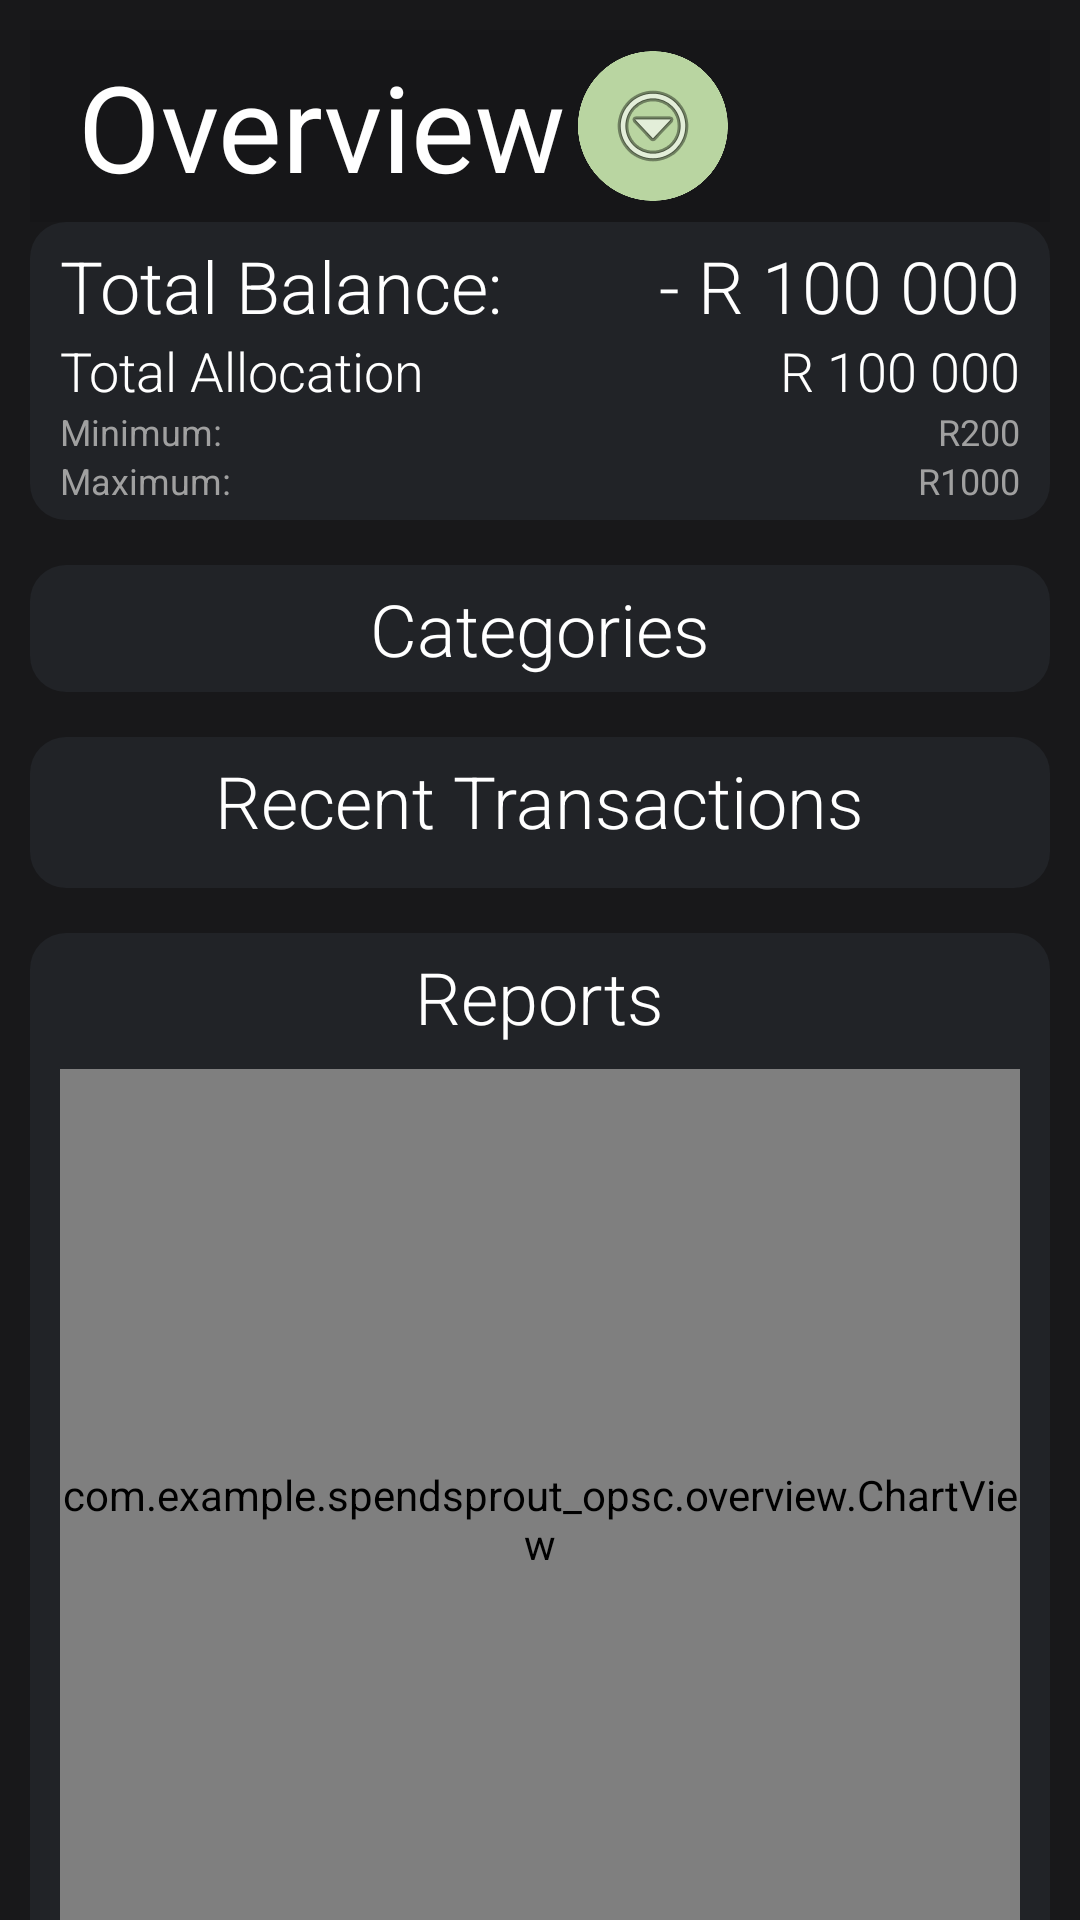

Named icons in this screenshot (1080 x 1920) and their centers, (x,y):
Menu button: (653,126)
